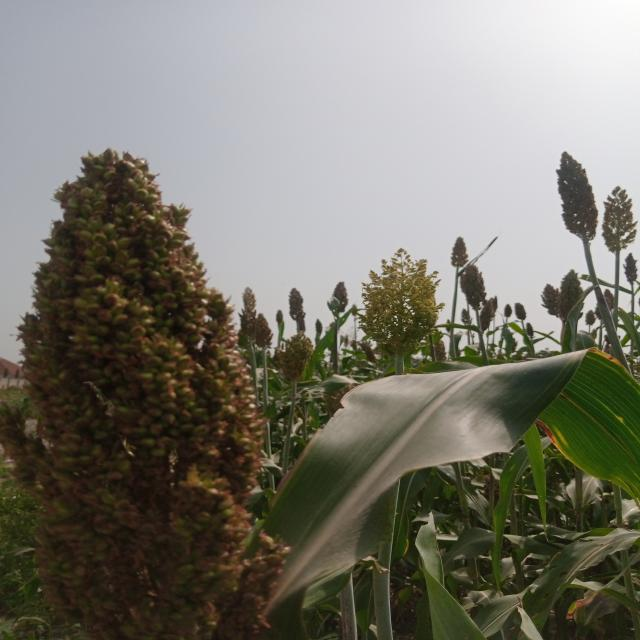UnripeSorghum: (9, 112, 314, 631)
